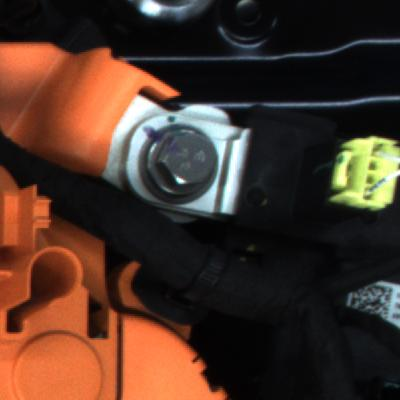nut_b: (127, 115, 225, 209)
